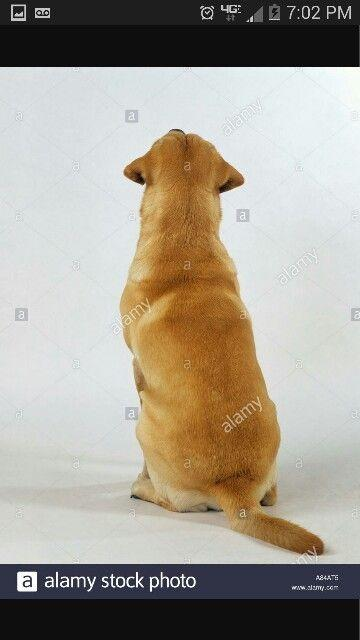adult_dog: (117, 123, 326, 556)
